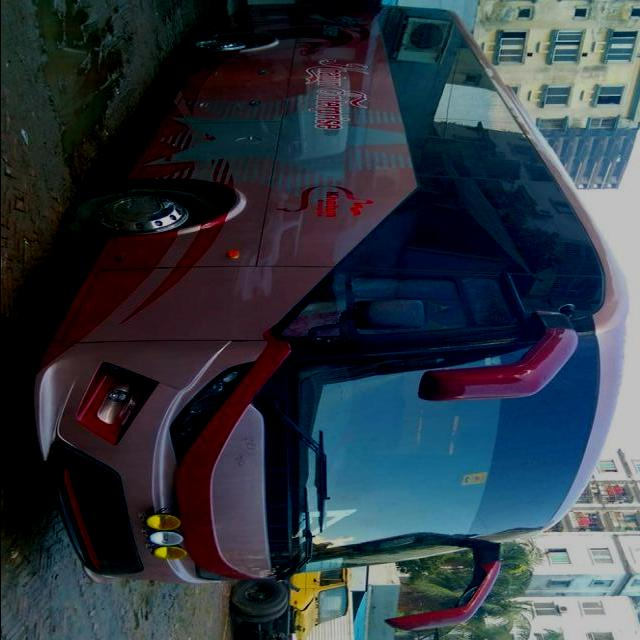bus: (26, 1, 629, 635)
